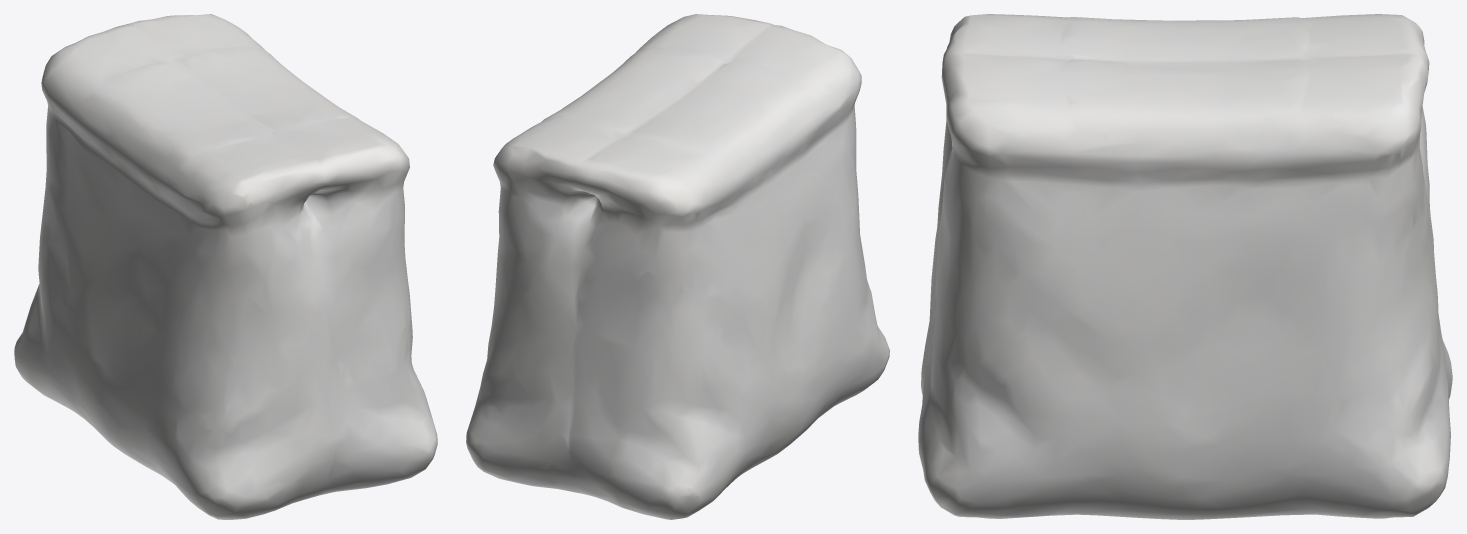
Rendered from stage1-flour-token-b2-v014.glb.
The picture shows the model from 3 angles, left to right: view 1: azimuth 30°, elevation 25°; view 2: azimuth 150°, elevation 25°; view 3: azimuth 270°, elevation 25°; orthographic projection. The views are drawn at different scales.
Visible parts, largest first — view 1: tripo_node_20653fed-fd69-404b-8d0c-b84ec8cb3eee; view 2: tripo_node_20653fed-fd69-404b-8d0c-b84ec8cb3eee; view 3: tripo_node_20653fed-fd69-404b-8d0c-b84ec8cb3eee.
Part boxes in pixels (<box>): tripo_node_20653fed-fd69-404b-8d0c-b84ec8cb3eee: <box>14,14,437,519</box>; tripo_node_20653fed-fd69-404b-8d0c-b84ec8cb3eee: <box>466,14,889,519</box>; tripo_node_20653fed-fd69-404b-8d0c-b84ec8cb3eee: <box>918,14,1452,519</box>.
Bounding box in the file's own units: 0.6528 × 0.8539 × 1.
Materials: 1 (1 with a texture image).
